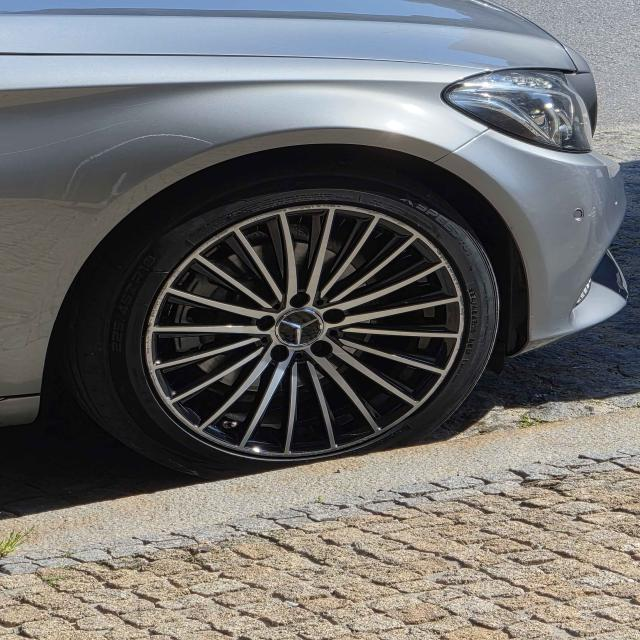jante: (141, 203, 466, 463)
parafuso: (247, 312, 278, 332), (286, 290, 315, 310), (309, 340, 333, 359), (324, 308, 345, 328), (271, 345, 290, 365)
roda: (49, 164, 499, 481)
